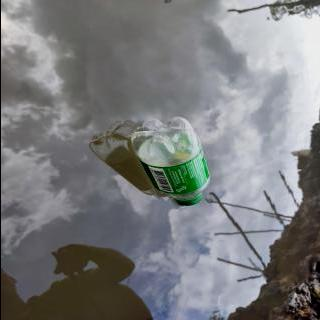bottle: (128, 114, 212, 208)
